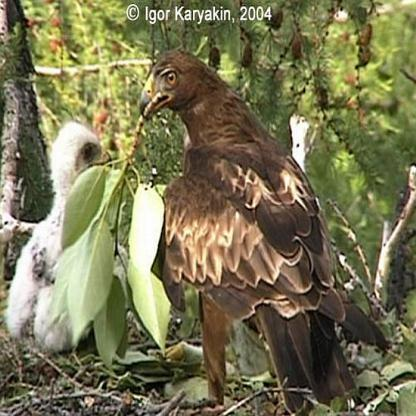Burung: (138, 50, 367, 407)
